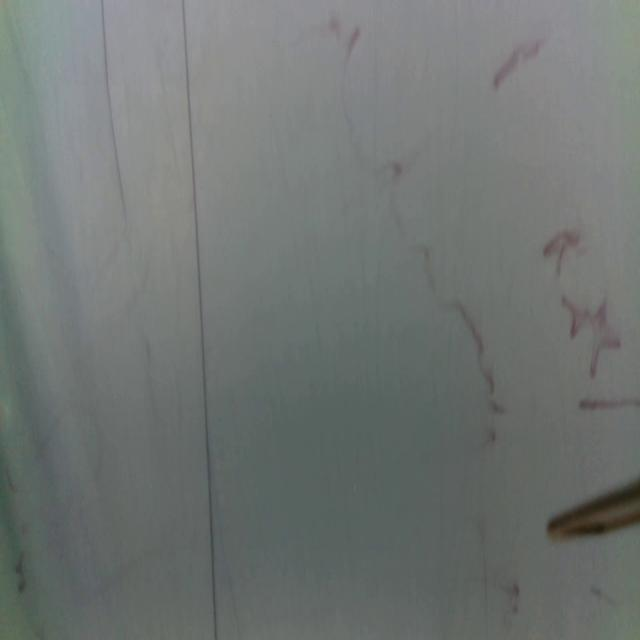crease: (182, 0, 217, 640), (100, 0, 128, 221)
